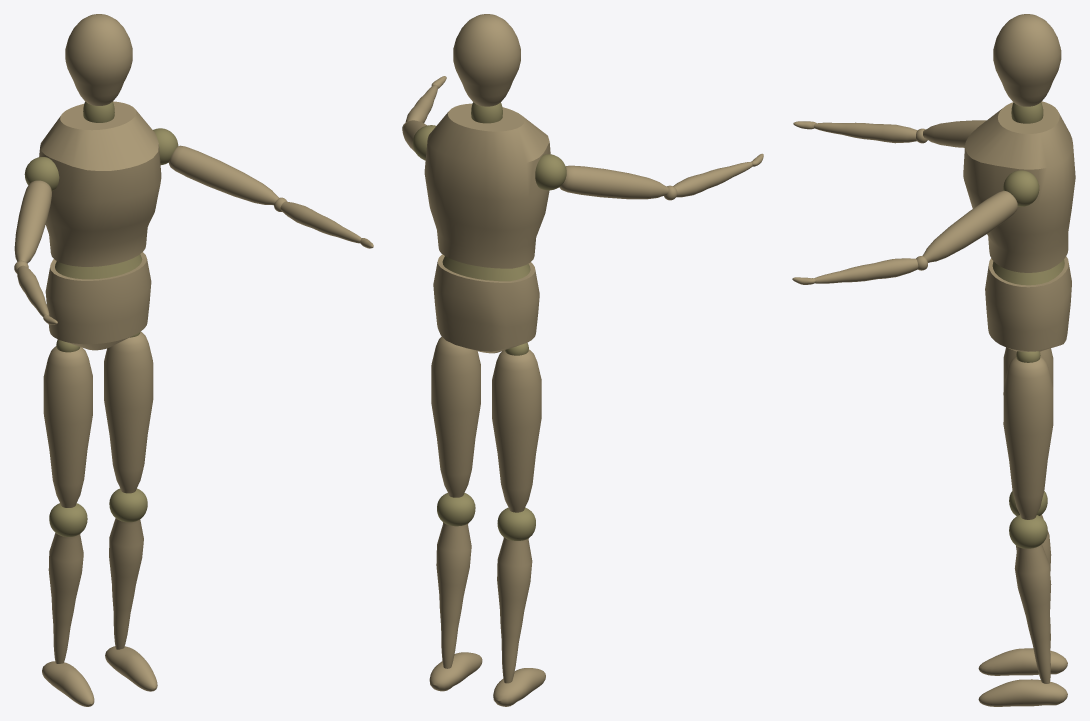
File: Mann_1.fbx
3 renders of one model, left to right at view 1: azimuth 30°, elevation 25°; view 2: azimuth 150°, elevation 25°; view 3: azimuth 270°, elevation 25°, orthographic.
Parts seen in each view (by area): view 1: Cylinder; view 2: Cylinder; view 3: Cylinder.
Part boxes in pixels (bbox=[...]): Cylinder: bbox=[14, 14, 373, 706]; Cylinder: bbox=[402, 14, 763, 706]; Cylinder: bbox=[792, 14, 1075, 706].
Bounding box in the file's own units: 105 × 207 × 78.94.
